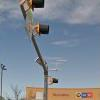Traffic light: (16, 1, 56, 43)
